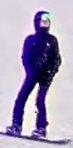snowboarder: (0, 10, 71, 145)
